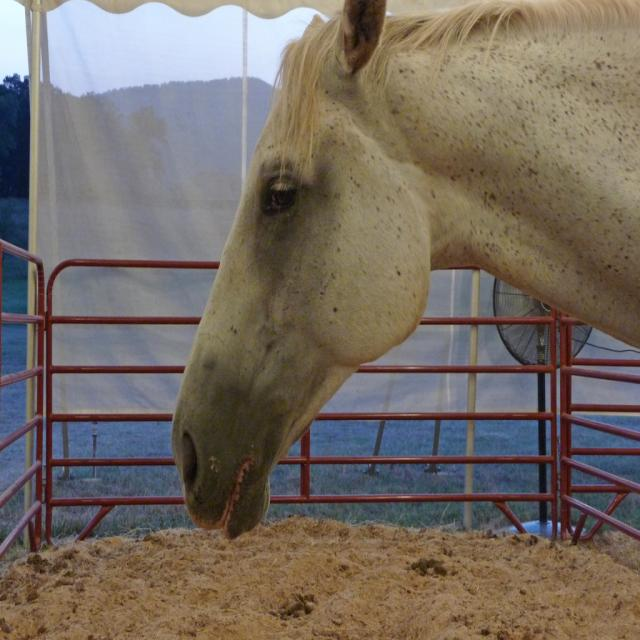Horse: (170, 0, 640, 545)
